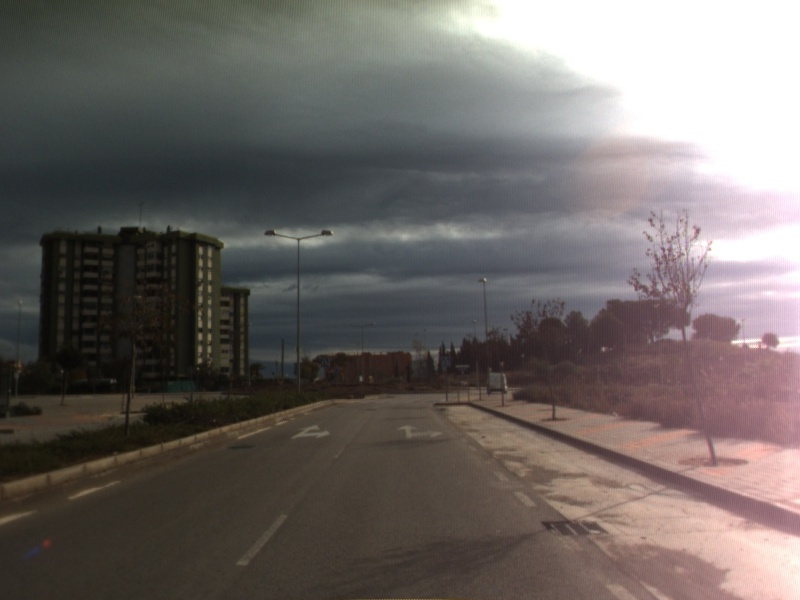STRAIGHT_RIGHT: (396, 423, 445, 441), (289, 422, 332, 441)
